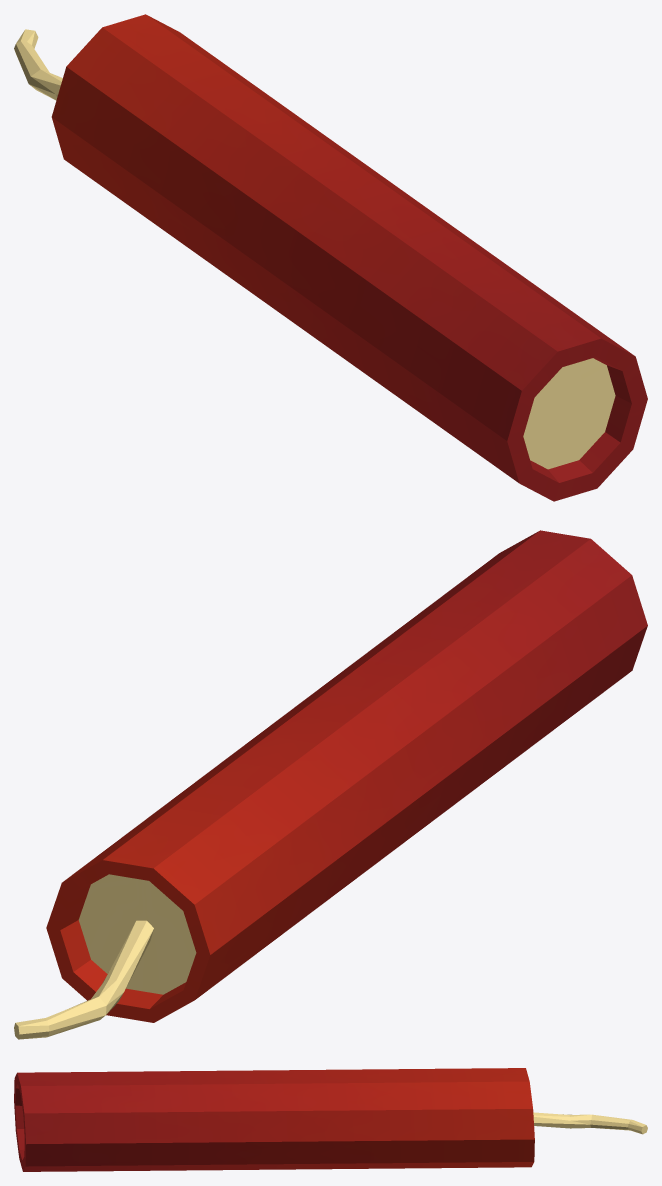
Rendered from Sign_BoomSausage.fbx.
3 views of the same model, one above another, from view 1: azimuth 30°, elevation 25°; view 2: azimuth 150°, elevation 25°; view 3: azimuth 270°, elevation 25° (orthographic). The views are drawn at different scales.
Visible parts, largest first — view 1: Cylinder.329; view 2: Cylinder.329; view 3: Cylinder.329.
Boxes of the visible parts, x1,y1,x2,y2 form: Cylinder.329: (14, 14, 647, 501); Cylinder.329: (14, 530, 647, 1039); Cylinder.329: (14, 1068, 647, 1171).
Size of the model in its own units: 44.68 by 40.24 by 262.
